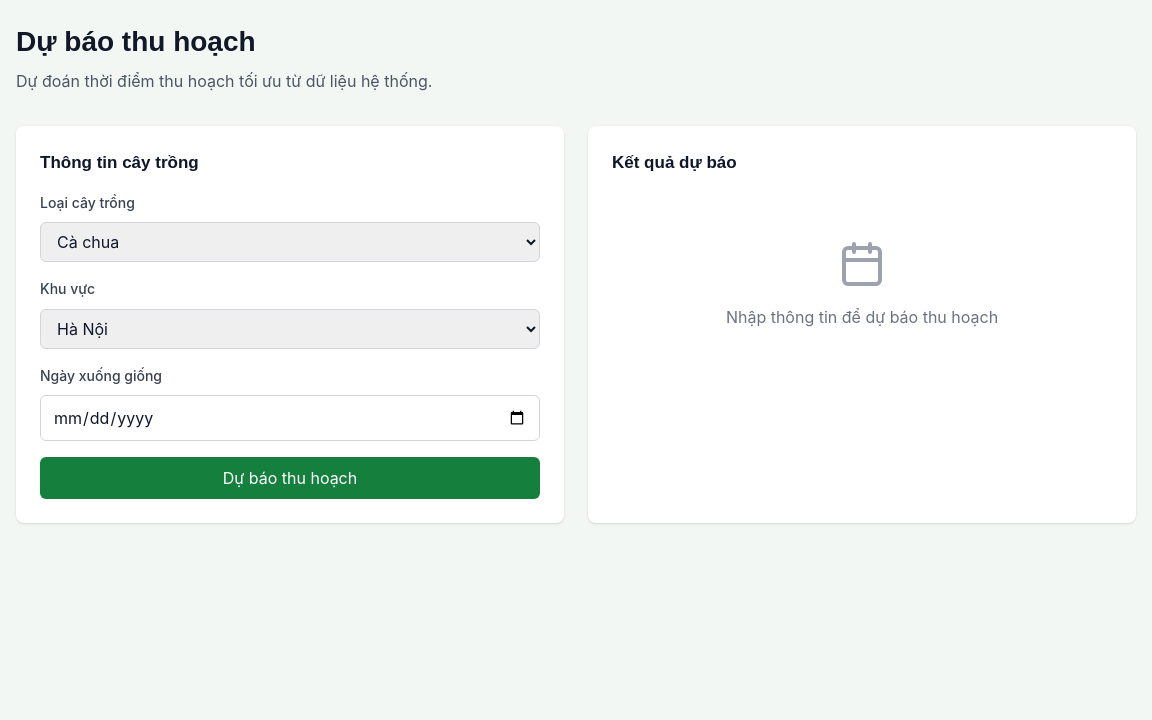
Test: harvest forecast confidence › never renders NaN when the forecast carries no confidence
Type "2026-03-01" into the date field labelled "Ngày xuống giống" at (290, 418), box x1=40 y1=395 x2=540 y2=441
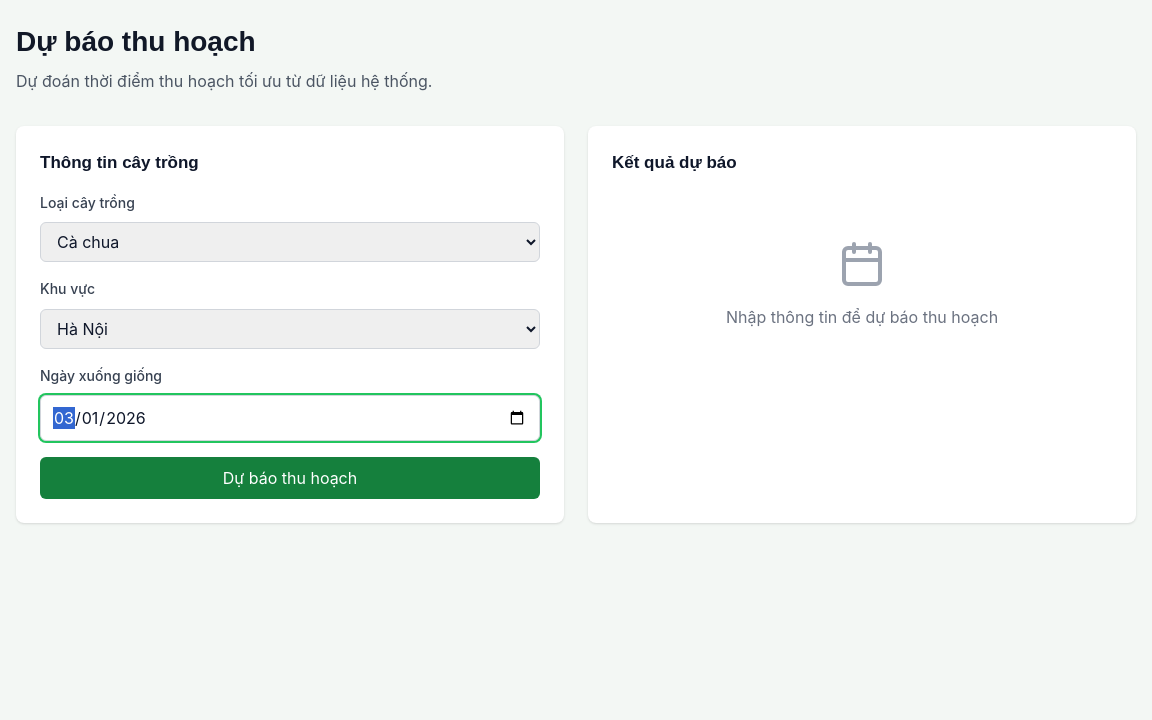
Click the button "Dự báo thu hoạch" at (290, 478), box x1=40 y1=457 x2=540 y2=499
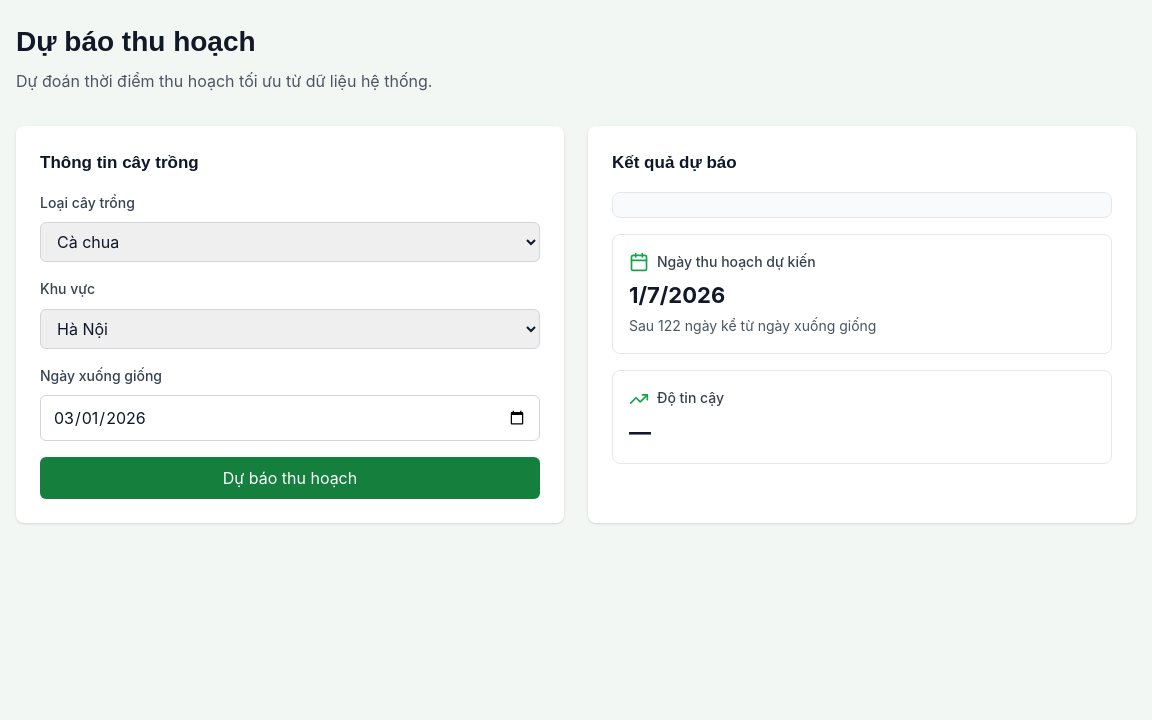
Expected: the text with test id "harvest-confidence" does not show "NaN", x1=629 y1=419 x2=651 y2=445
Expected: the text with test id "harvest-confidence" reads "—", x1=629 y1=419 x2=651 y2=445
